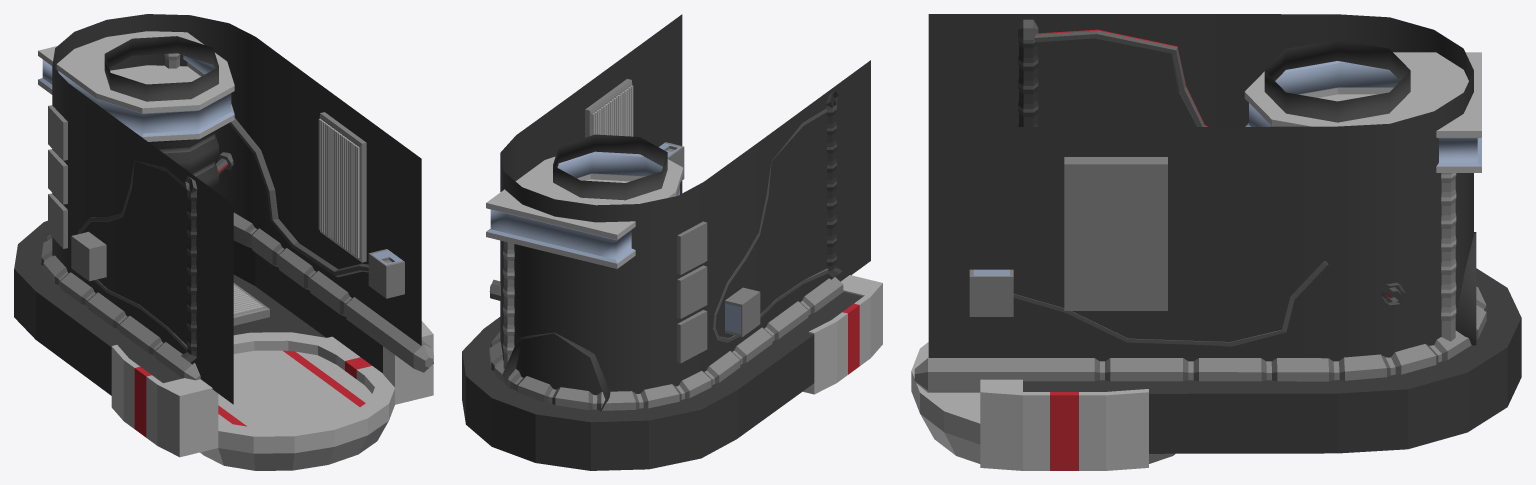
File: PipeDoor01.glb
The picture shows the model from 3 angles, left to right: view 1: azimuth 30°, elevation 25°; view 2: azimuth 150°, elevation 25°; view 3: azimuth 270°, elevation 25°; orthographic projection. The views are drawn at different scales.
Visible parts, largest first — view 1: door.001; view 2: door.001; view 3: door.001.
Boxes of the visible parts, <box> form: door.001: <box>14,14,433,470</box>; door.001: <box>462,14,882,470</box>; door.001: <box>911,14,1521,470</box>.
Size of the model in its own units: 2.76 by 2.83 by 4.47.
1 material, 1 textured.
